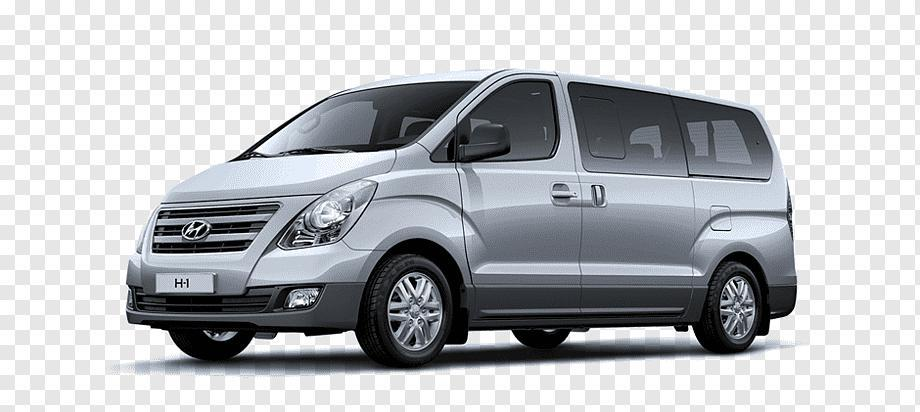Van: (115, 60, 805, 348)
